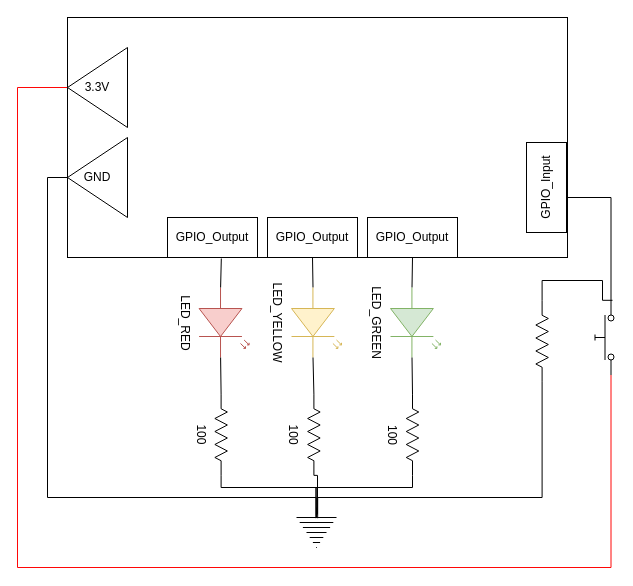
Image size: 633x586. Some labels were removed from this diagram. Each missing label, with the box of its shape:
10K: (535, 300, 548, 382)
STM32F767: (66, 16, 568, 258)
